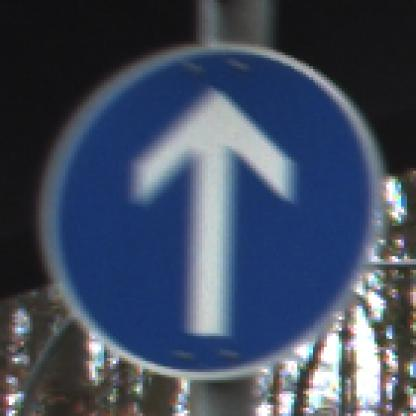AheadOnly: (40, 37, 381, 381)
